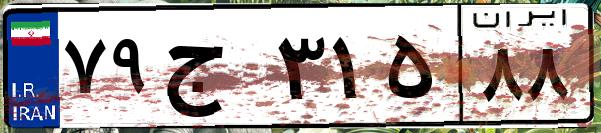1: (330, 28, 385, 110)
3: (270, 28, 330, 110)
5: (385, 28, 445, 110)
7: (57, 26, 110, 100)
8: (475, 38, 525, 113), (525, 38, 570, 115)
9: (110, 28, 158, 98)
ج: (158, 20, 270, 120)
